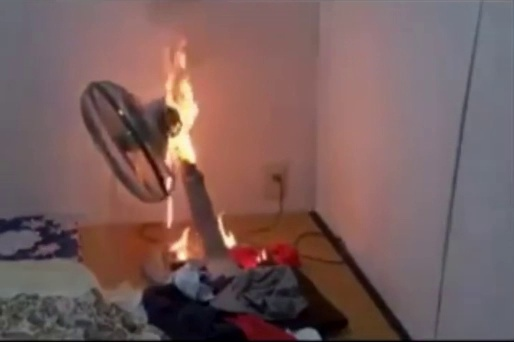fire: (163, 47, 211, 165)
